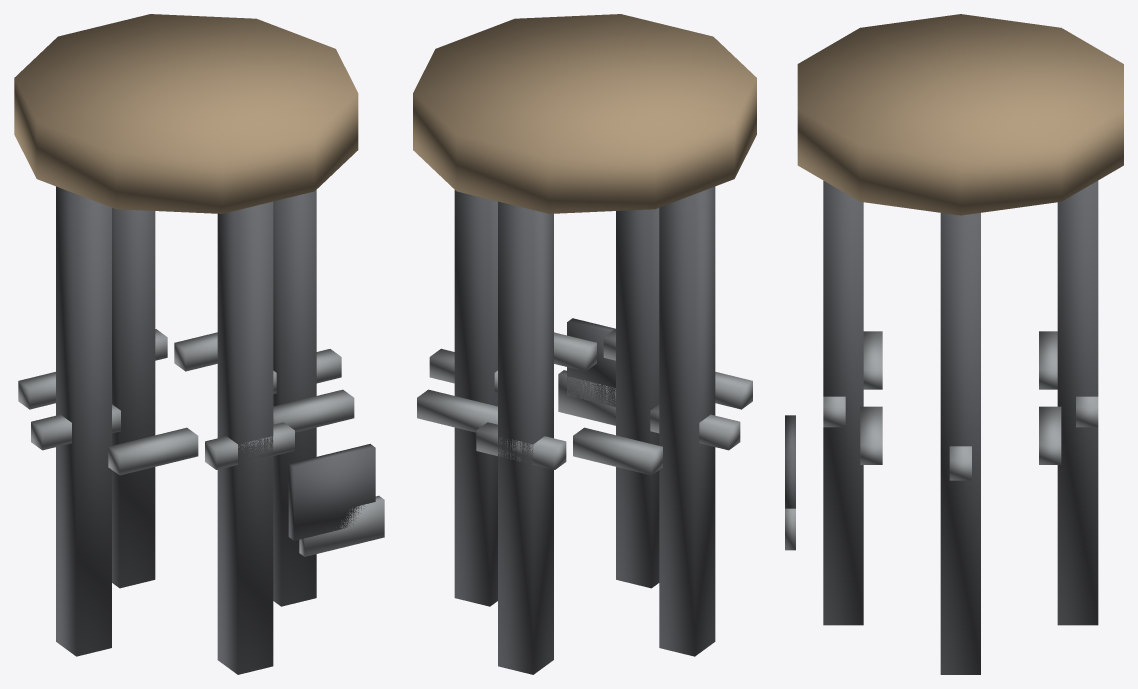
Rendered from counter_stool__weathered.glb.
3 views of the same model, side by side, from view 1: azimuth 30°, elevation 25°; view 2: azimuth 150°, elevation 25°; view 3: azimuth 270°, elevation 25° (orthographic).
Parts seen in each view (by area): view 1: world; view 2: world; view 3: world.
Part boxes in pixels (left/top/right/bottom): world: left=14, top=14, right=384, bottom=674; world: left=413, top=14, right=756, bottom=674; world: left=785, top=14, right=1123, bottom=674.
Bounding box in the file's own units: 0.38 × 0.6484 × 0.3754.
